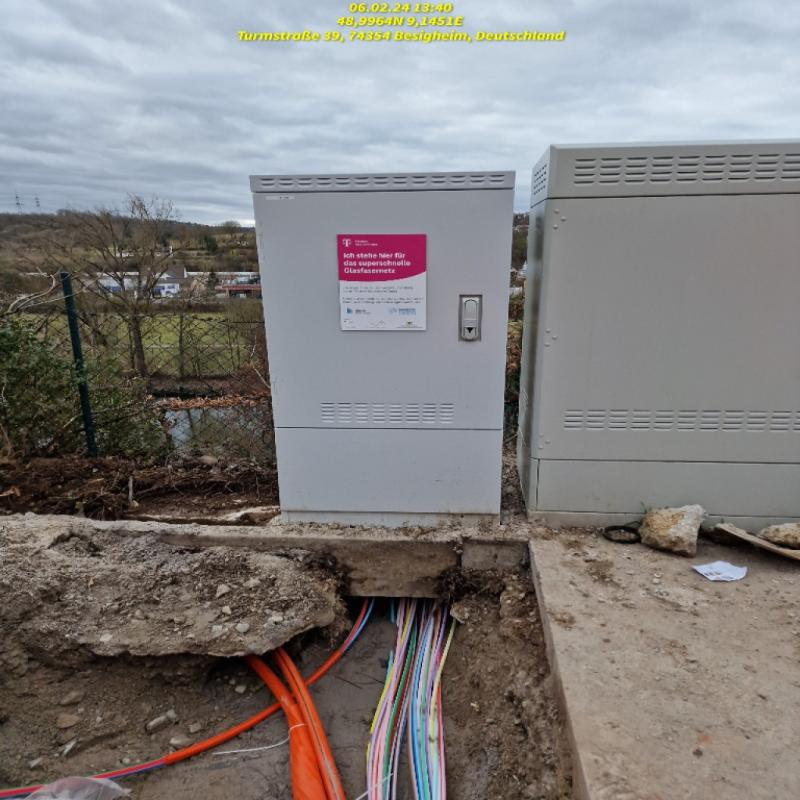NT-Gehause: (249, 173, 515, 523)
Steaker: (335, 233, 429, 335)
